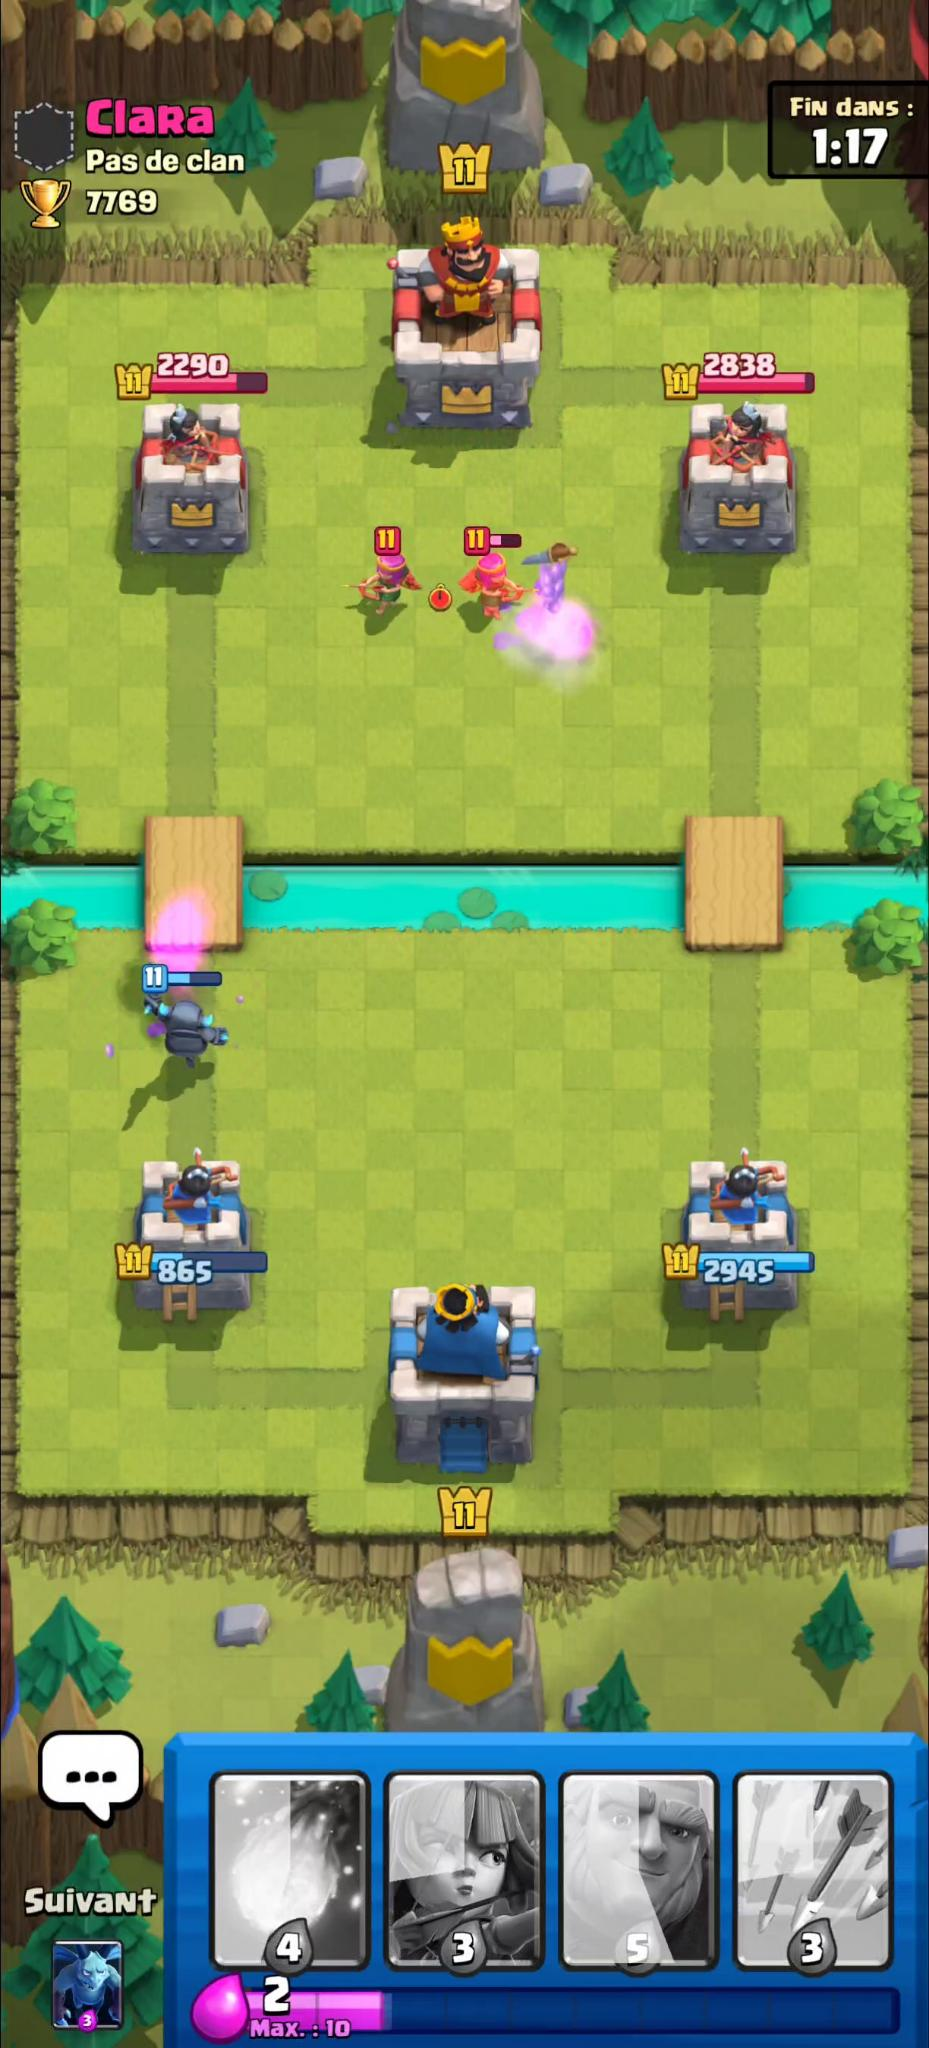archere: (337, 547, 427, 619), (456, 554, 542, 626)
mini_PEKKA: (139, 986, 233, 1071)
